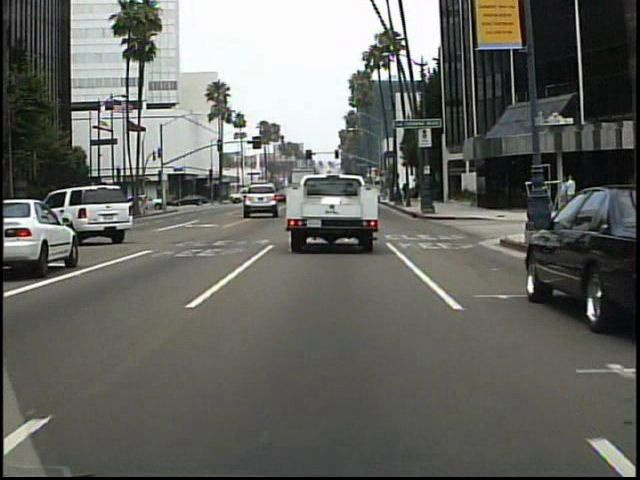person: (564, 171, 580, 212), (554, 174, 569, 214), (159, 189, 172, 214)
